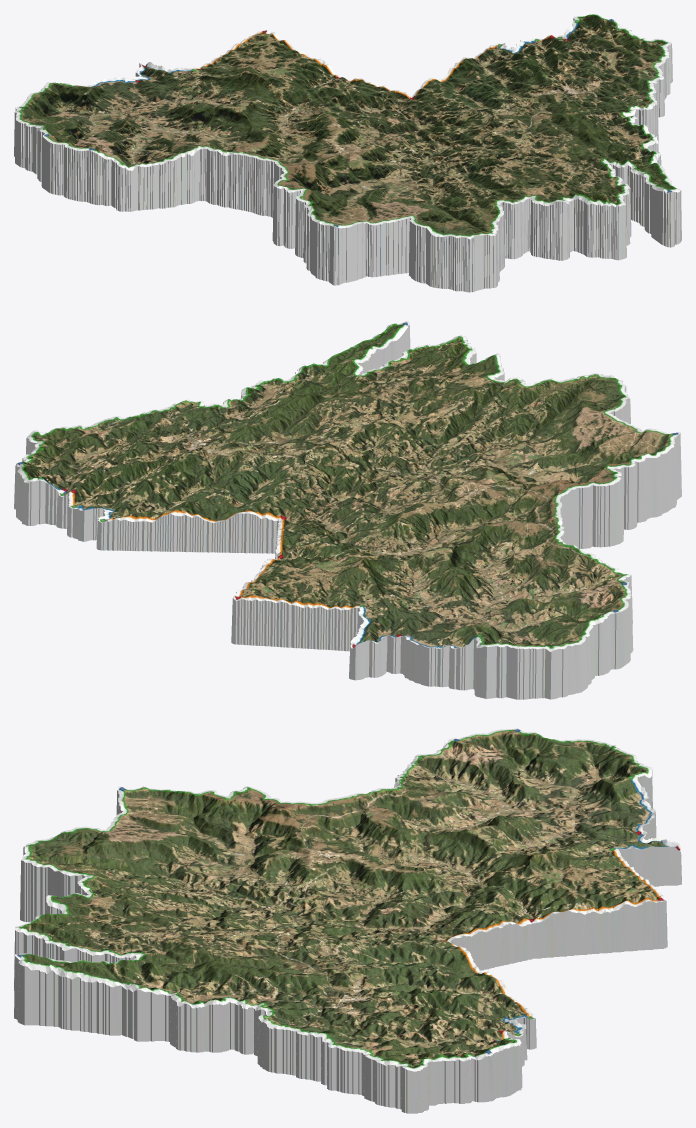
3 renders of one model, top to bottom at view 1: azimuth 30°, elevation 25°; view 2: azimuth 150°, elevation 25°; view 3: azimuth 270°, elevation 25°, orthographic. The views are drawn at different scales.
Size of the model in its own units: 0.9999 by 0.0961 by 0.8624.
1 material, 1 textured.
